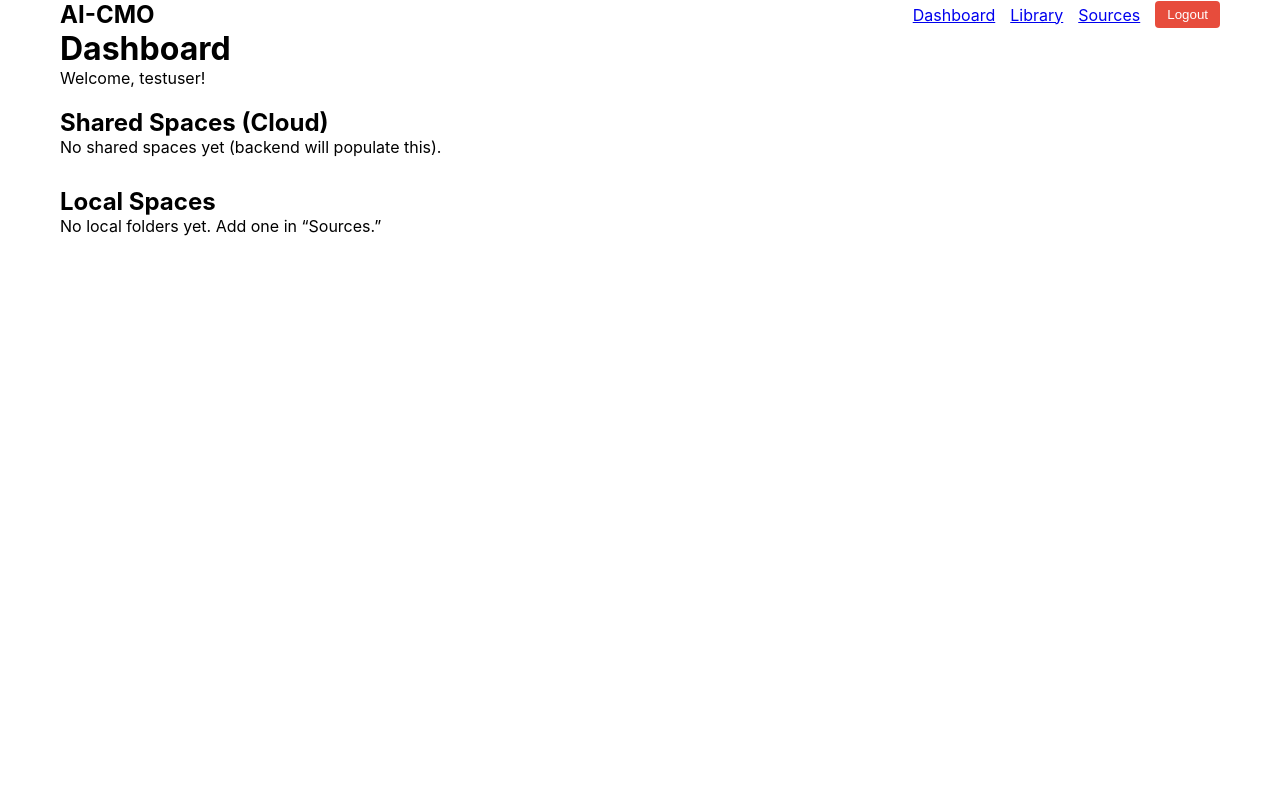
Test case: App Component › should logout successfully
Check: the header with test id "navbar" is shown, box [0, 0, 1279, 29]
Click logout
Click the button with test id "logout-button": [1188, 14] box [1155, 1, 1220, 28]
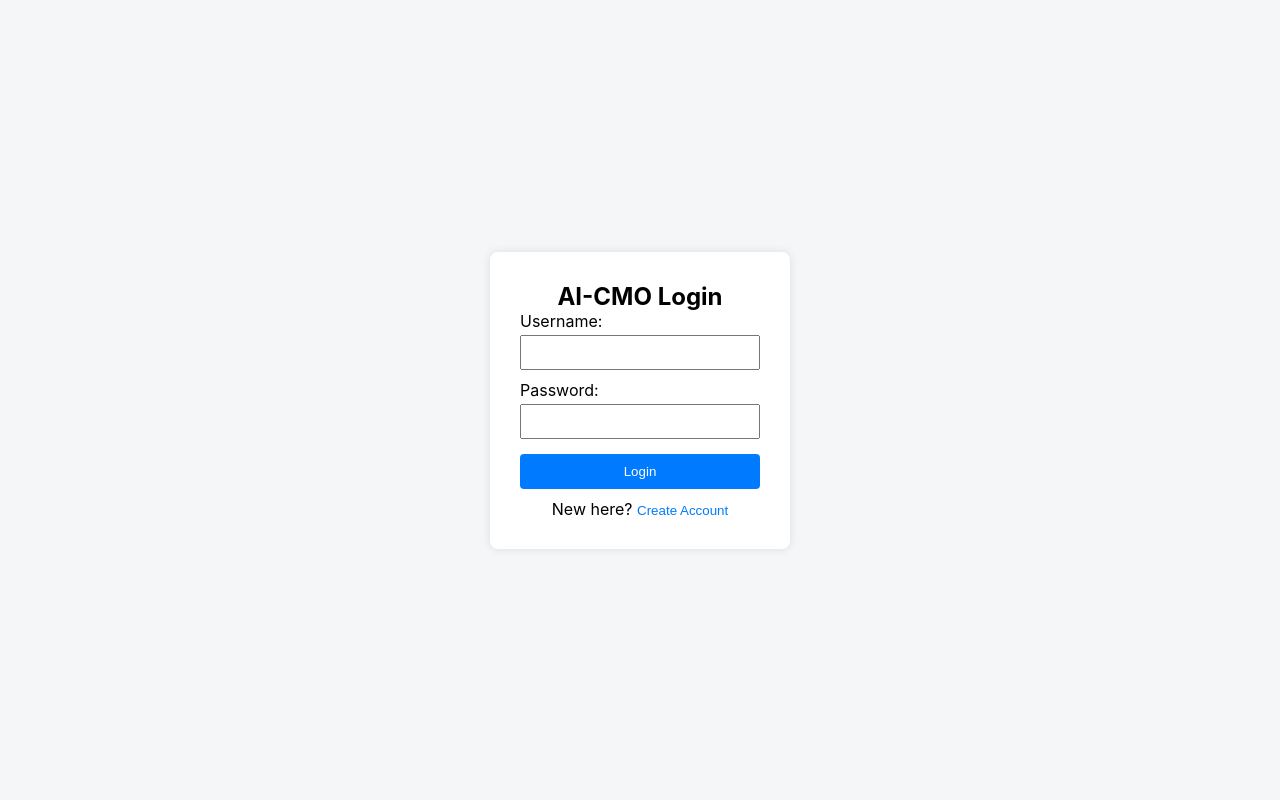
Check: the element with test id "login-page" is shown
